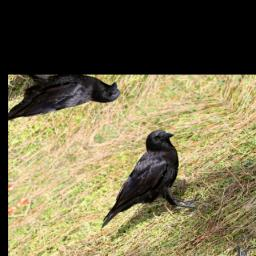Crow: (59, 125, 231, 256)
